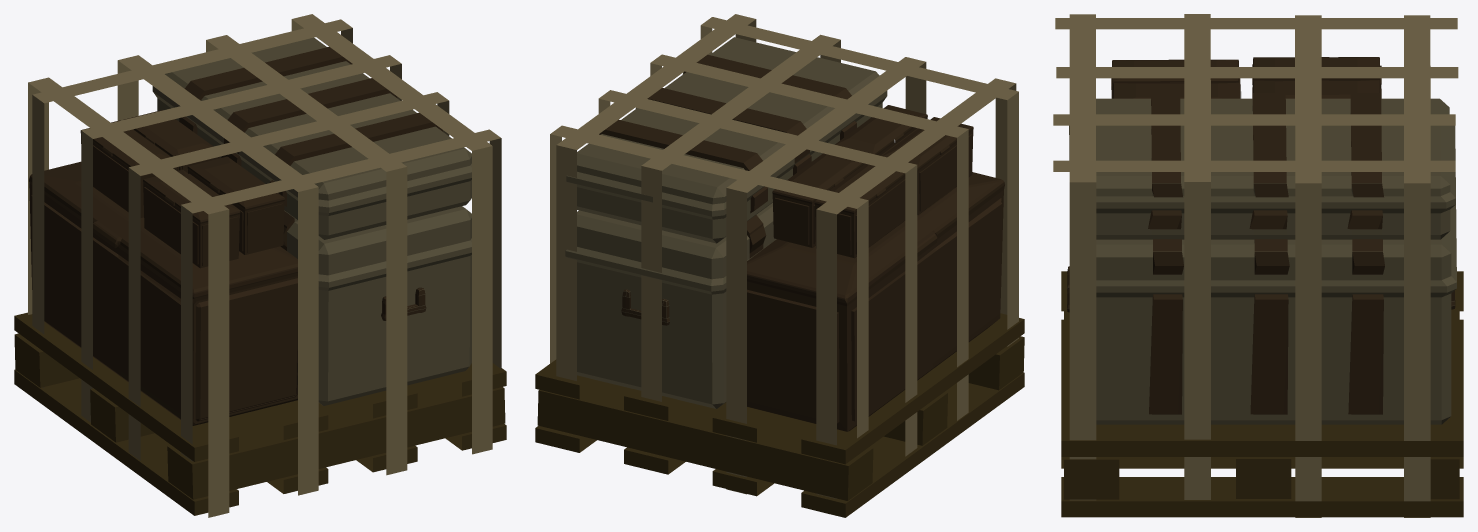
Rendered from cases and pallete.fbx.
3 views of the same model, side by side, from view 1: azimuth 30°, elevation 25°; view 2: azimuth 150°, elevation 25°; view 3: azimuth 270°, elevation 25° (orthographic). The views are drawn at different scales.
Visible parts, largest first — view 1: Cube.002; view 2: Cube.002; view 3: Cube.002.
Part boxes in pixels (<box>): Cube.002: <box>14,14,506,517</box>; Cube.002: <box>535,14,1024,517</box>; Cube.002: <box>1053,14,1463,517</box>.
Size of the model in its own units: 201 by 186 by 204.
